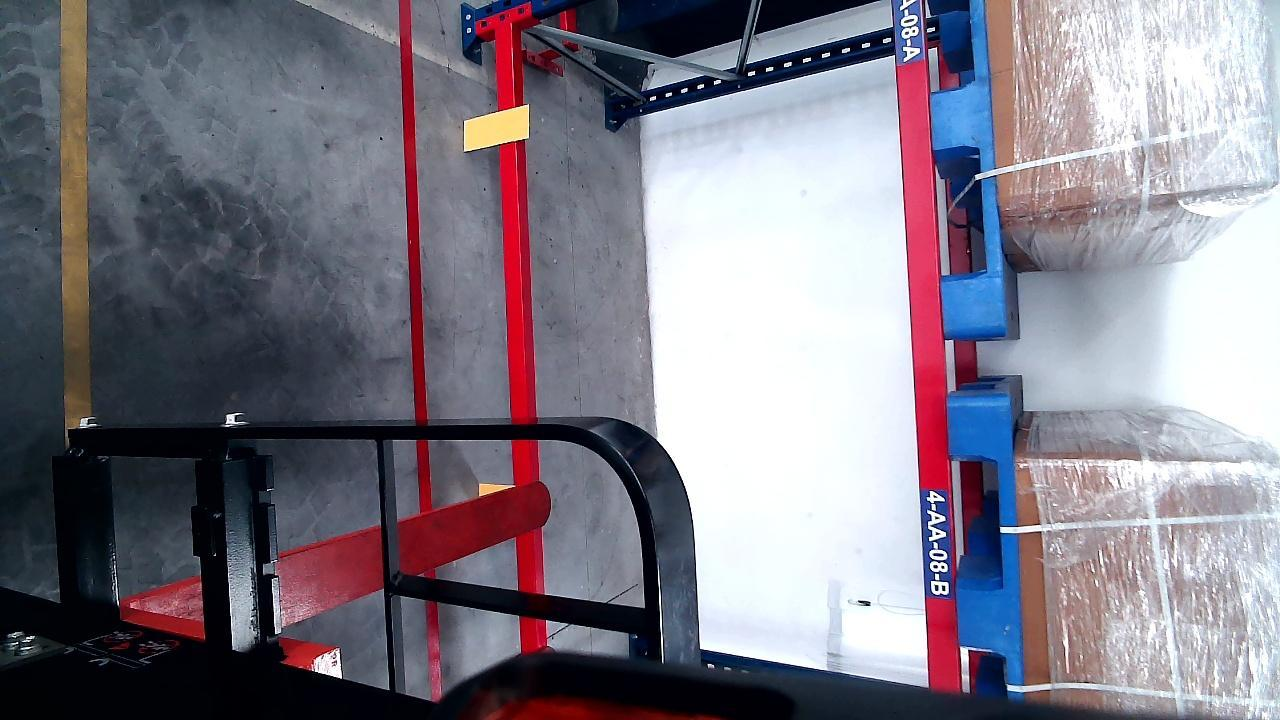red_line: (398, 0, 437, 509)
yellow_line: (59, 1, 93, 425)
